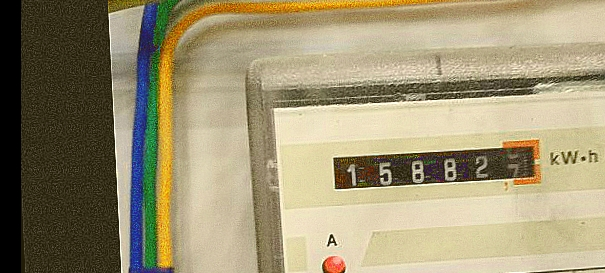1: (346, 158, 360, 187)
2: (473, 152, 491, 179)
5: (377, 158, 396, 189)
7: (506, 160, 520, 177)
8: (442, 154, 459, 183), (409, 157, 426, 185)
screen: (321, 129, 550, 202)
